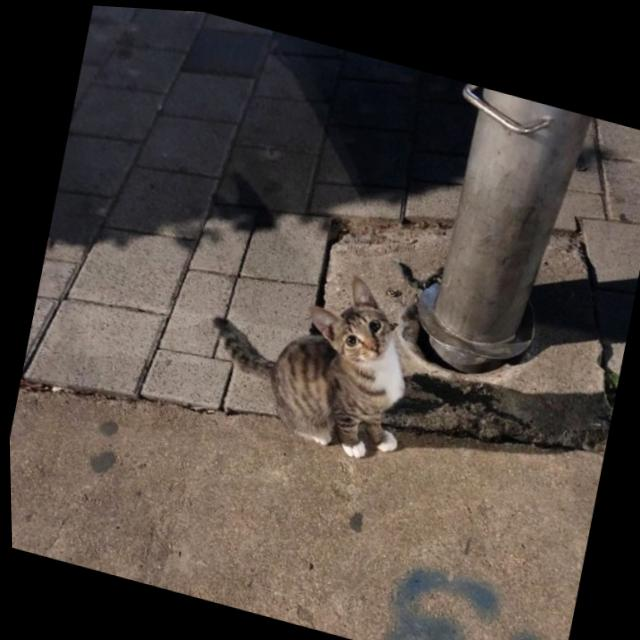animals: (188, 235, 431, 467)
